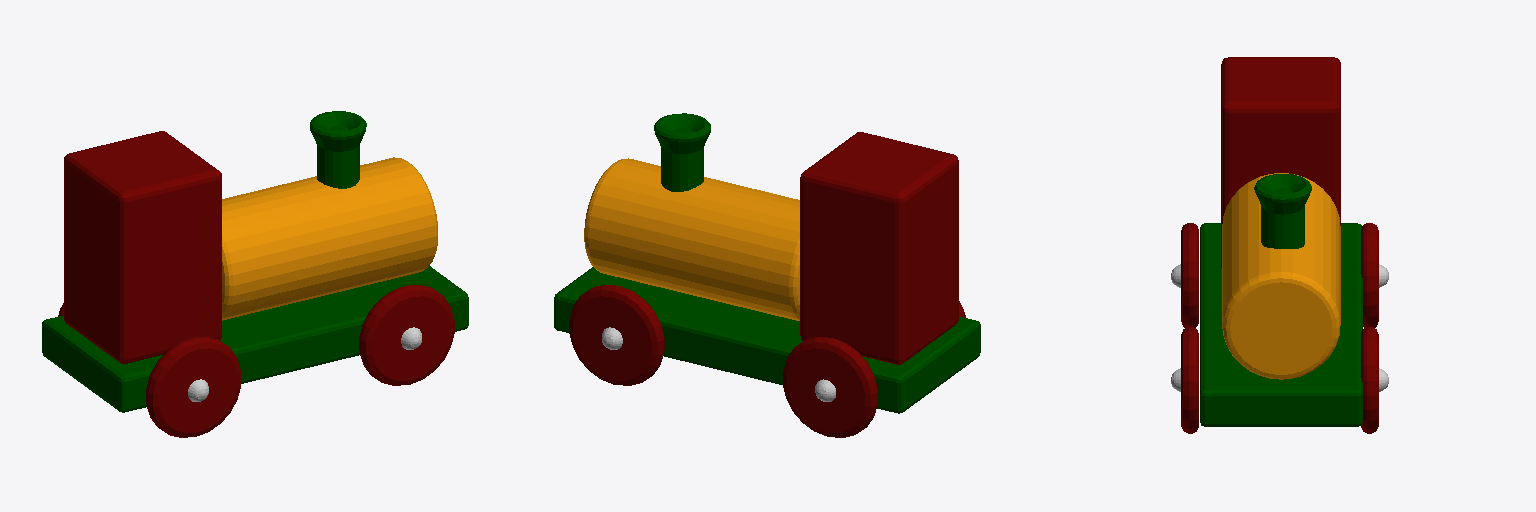
The model's file is SmallRhombicosidodecahedron.obj.
3 views of the same model, side by side, from view 1: azimuth 30°, elevation 25°; view 2: azimuth 150°, elevation 25°; view 3: azimuth 270°, elevation 25° (orthographic).
Visible parts, largest first — view 1: Train; view 2: Train; view 3: Train.
Boxes of the visible parts, x1=… form: Train: x1=42, y1=111, x2=468, y2=437; Train: x1=554, y1=113, x2=980, y2=437; Train: x1=1171, y1=57, x2=1388, y2=433.
Size of the model in its own units: 2 by 1.33 by 1.08.